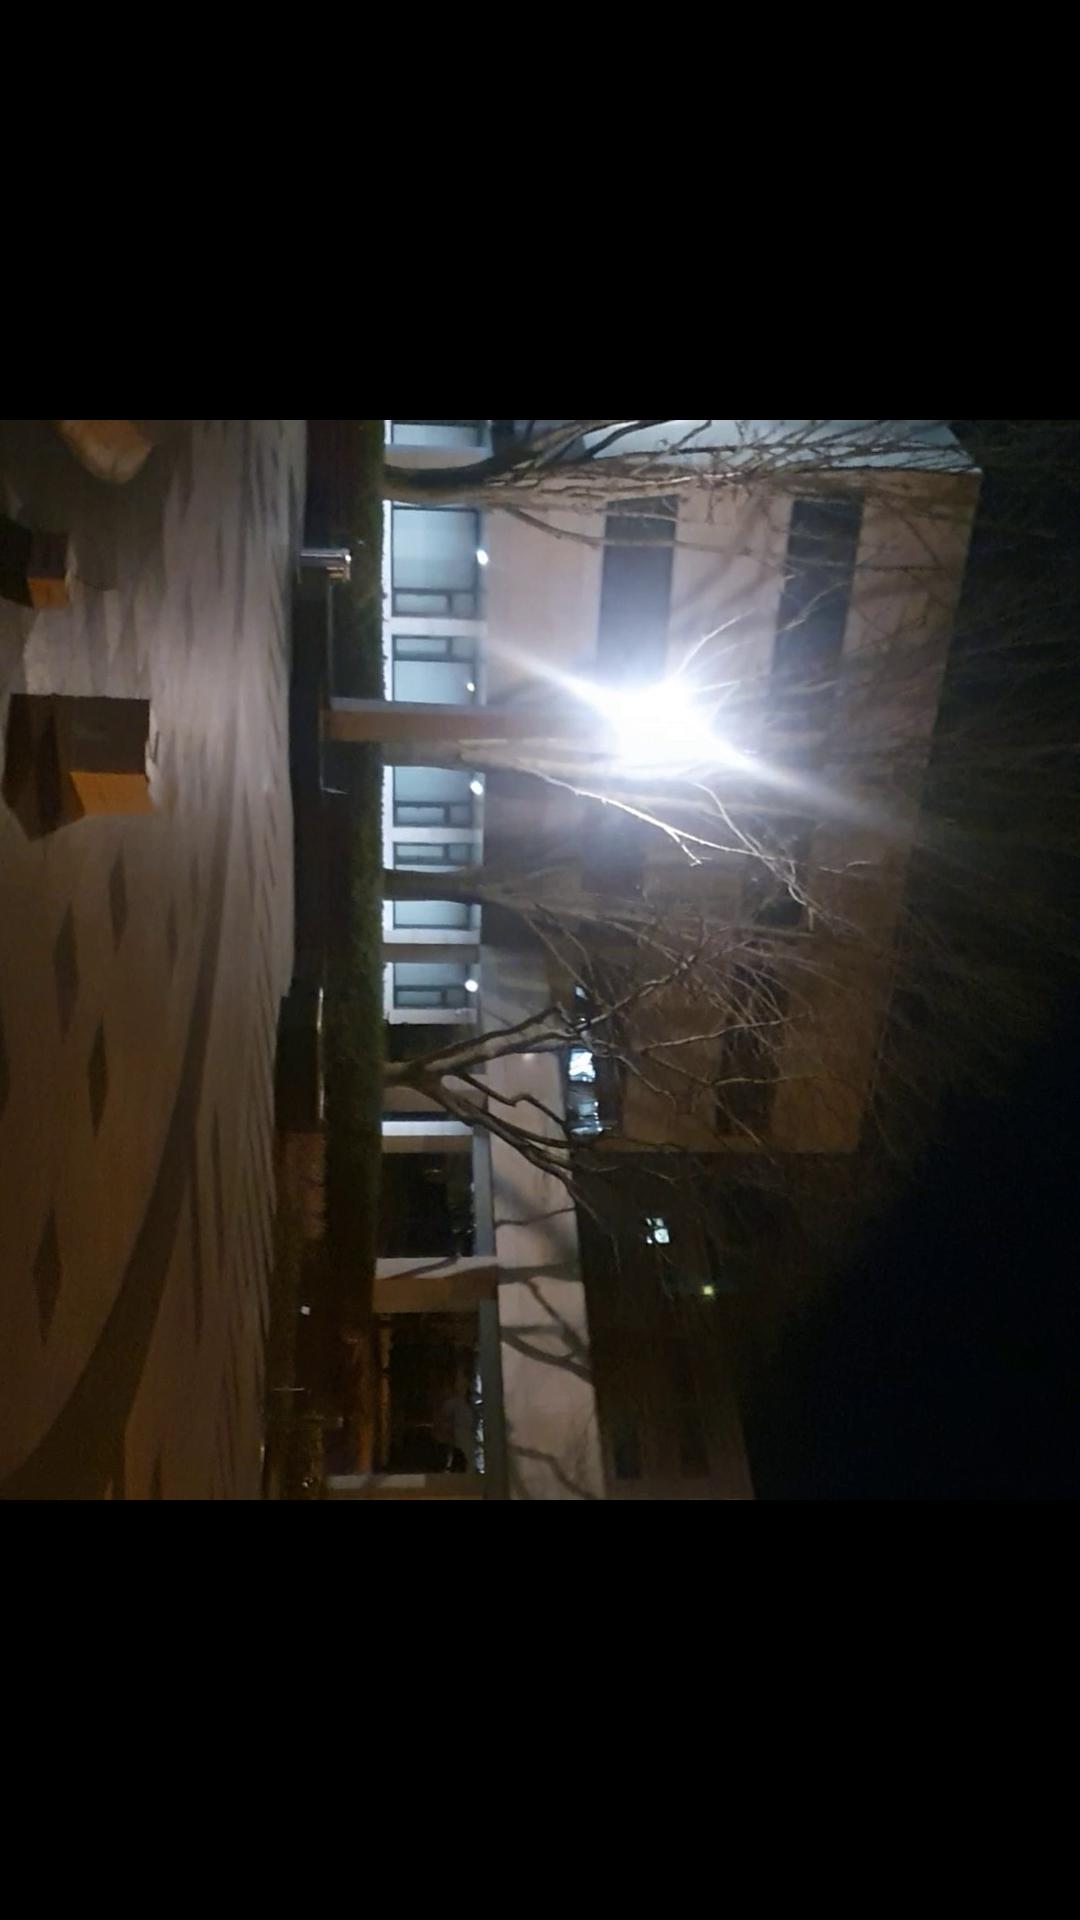Box: (45, 691, 175, 820), (7, 513, 98, 625)
